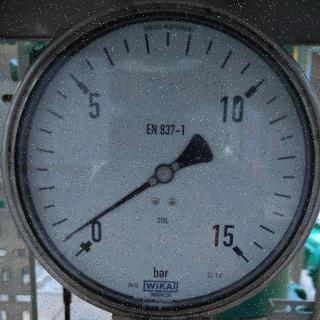gauge: (0, 0, 320, 320), (215, 228, 251, 264), (73, 224, 104, 260), (153, 162, 174, 184), (60, 229, 76, 243)
